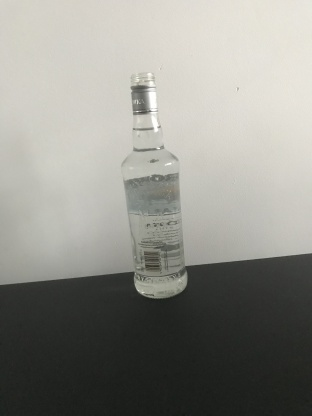nakretka: (128, 70, 159, 115)
